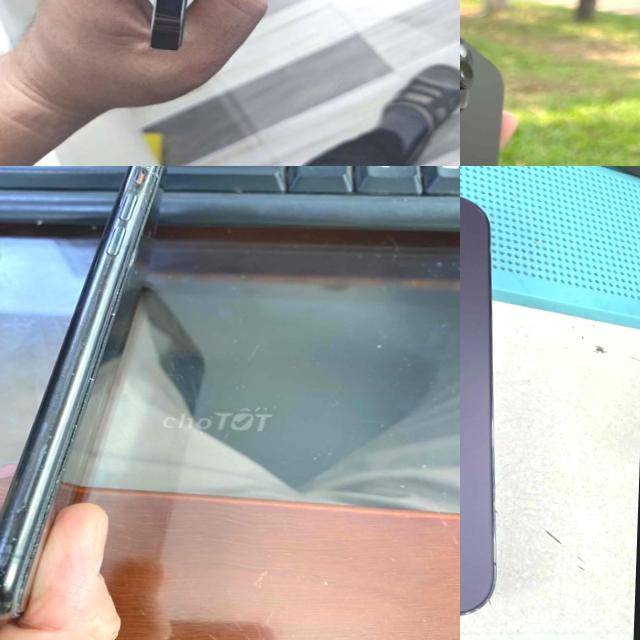gen_11: (0, 166, 171, 625)
gen_14: (460, 166, 522, 626), (121, 0, 222, 63)
gen_16: (460, 0, 523, 166)
scratch: (0, 424, 52, 607), (109, 235, 142, 272), (71, 350, 97, 383), (94, 289, 118, 319), (130, 166, 167, 185)
